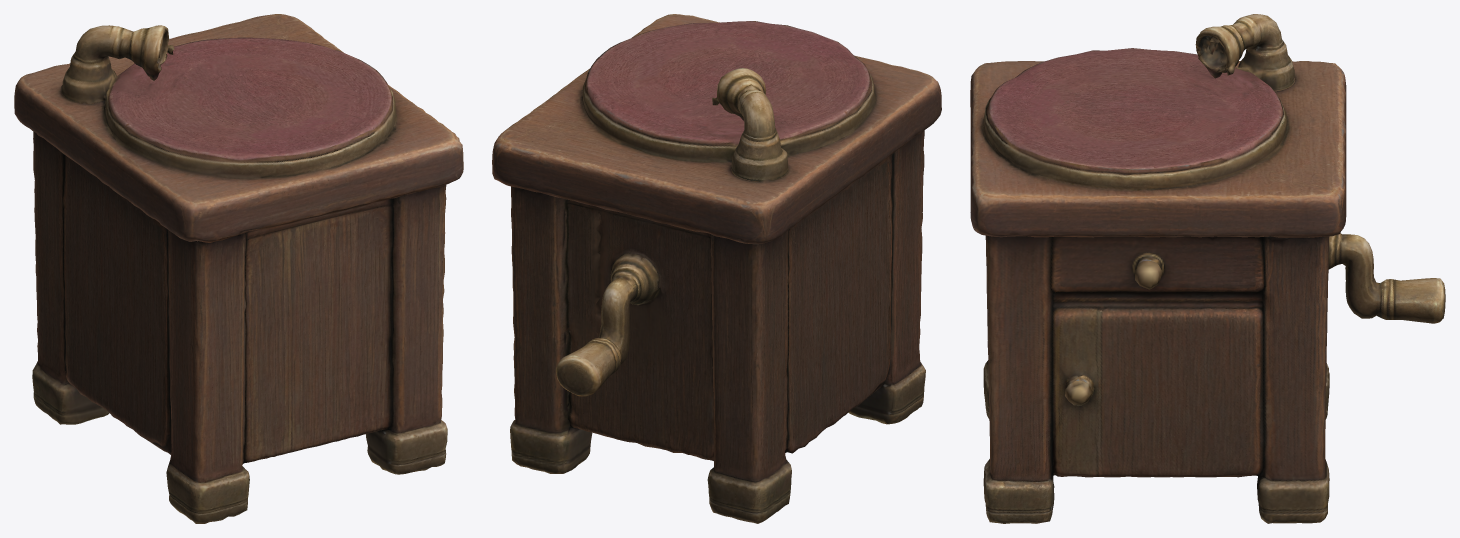
The model's file is Furn_Gramophone_Stand.fbx.
The picture shows the model from 3 angles, left to right: view 1: azimuth 30°, elevation 25°; view 2: azimuth 150°, elevation 25°; view 3: azimuth 270°, elevation 25°; orthographic projection. The views are drawn at different scales.
Visible parts, largest first — view 1: texture_mapping; view 2: texture_mapping; view 3: texture_mapping.
Boxes of the visible parts, x1=… form: texture_mapping: x1=14, y1=14, x2=463, y2=523; texture_mapping: x1=492, y1=14, x2=941, y2=523; texture_mapping: x1=970, y1=14, x2=1445, y2=523.
Size of the model in its own units: 0.7253 by 1 by 0.9502.
Materials: 1 (1 with a texture image).
